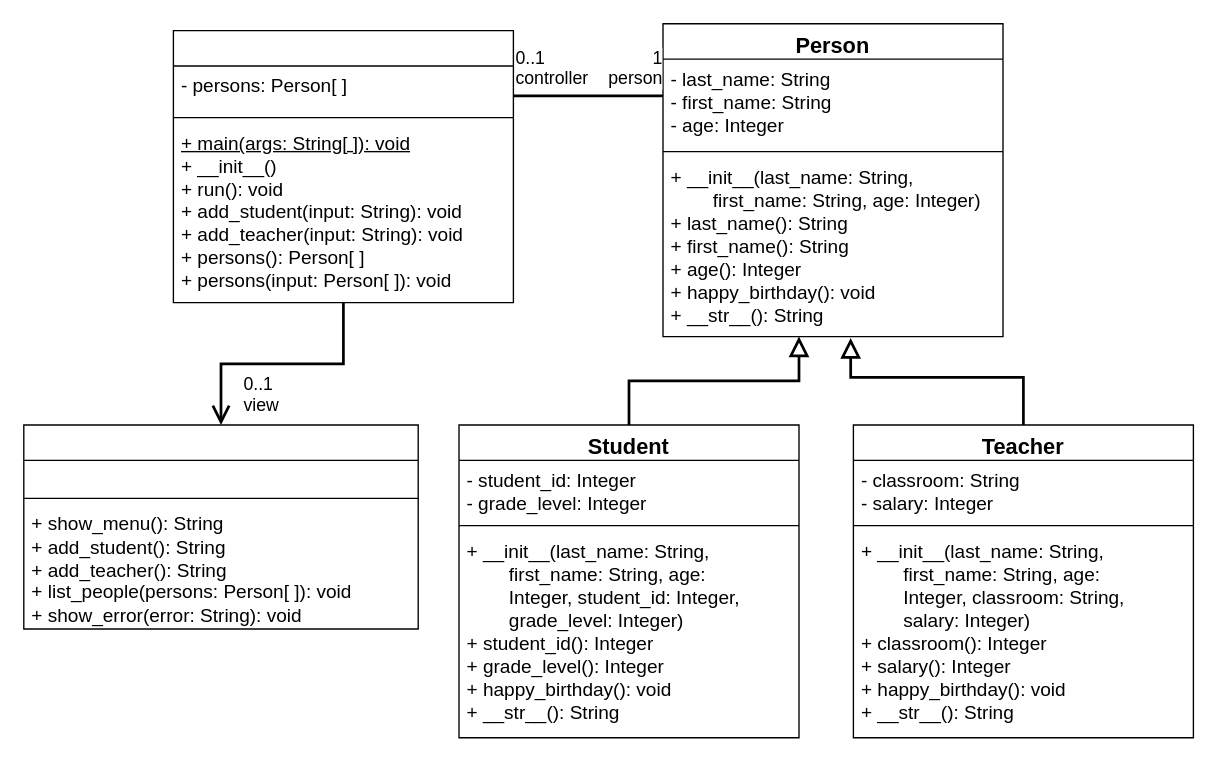
The diagram is 1217 pixels wide and 766 high, and some of its shapes have lost their labels. Each missing label, with the box of its shape:
Controller: (172, 29, 513, 303)
View: (22, 424, 418, 629)
